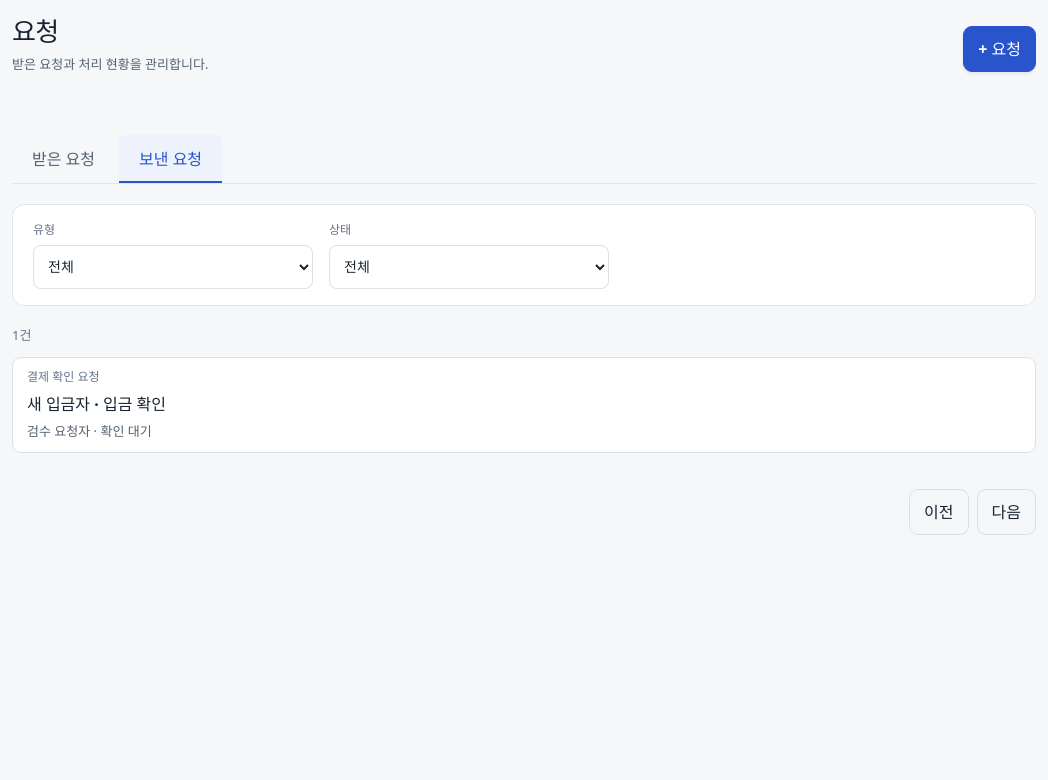
Scenario: detail back restores mixed-list type and scope/pagination
Click the button "결제 확인 요청 새 입금자 · 입금 확인 검수 요청자 · 확인 대기" at (63, 376), box [12,357,1036,452]
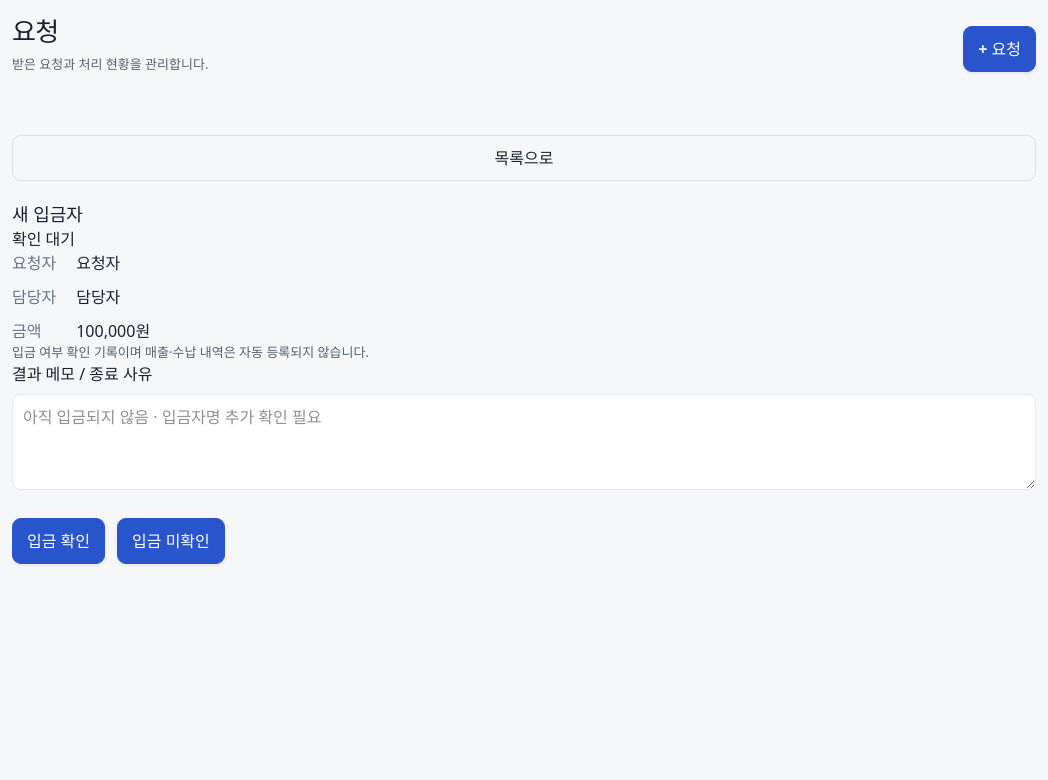
Expected: the heading "새 입금자" is shown, [12,202,83,226]
Click the button "목록으로" at (524, 158), box [12,134,1036,180]
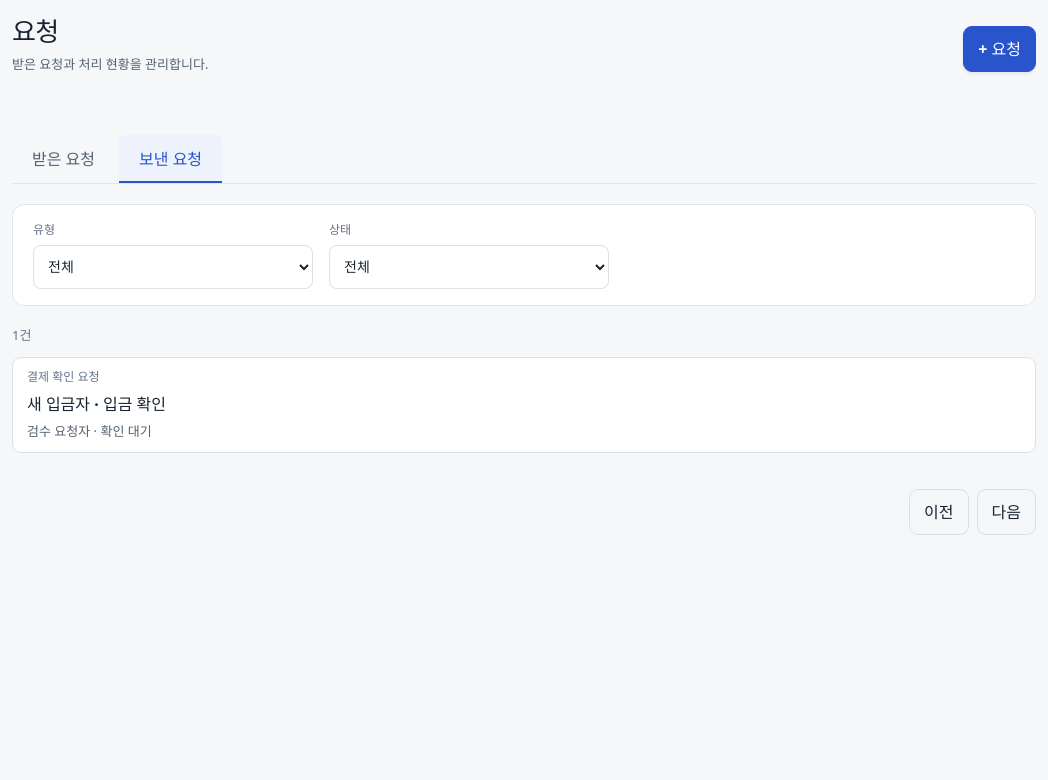
Expected: the text "새 입금자 · 입금 확인" is shown, [27,393,166,415]
